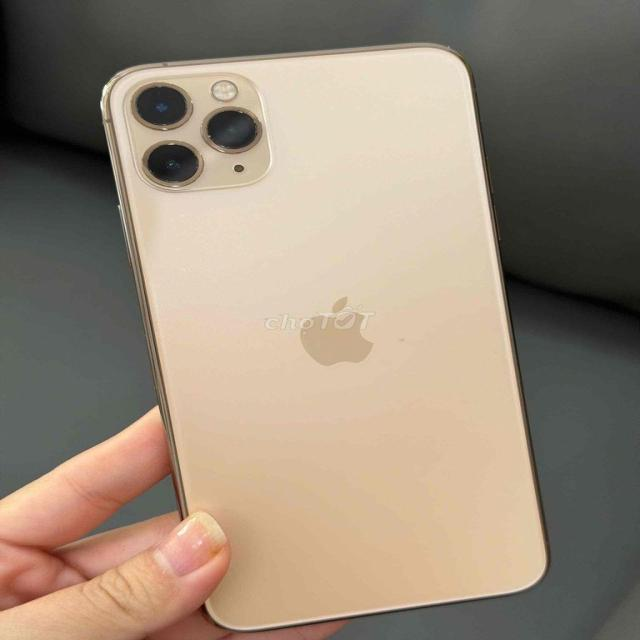gen_11: (95, 33, 557, 632)
